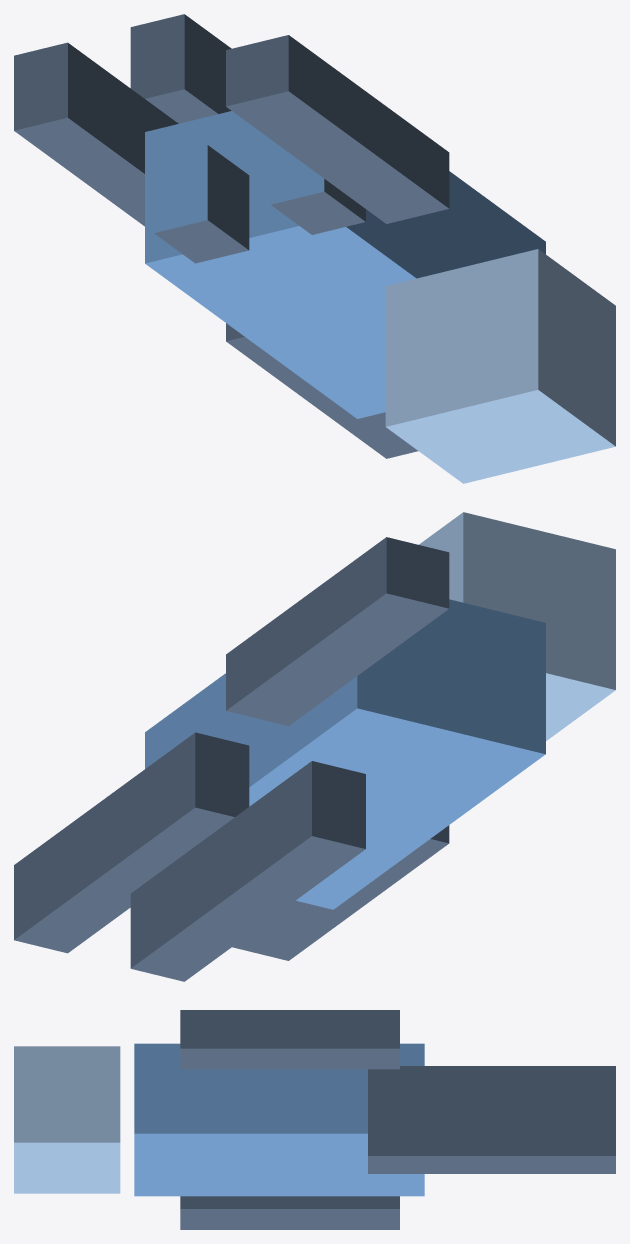
Rendered from humanoid_robot.gltf.
The picture shows the model from 3 angles, top to bottom: view 1: azimuth 30°, elevation 25°; view 2: azimuth 150°, elevation 25°; view 3: azimuth 270°, elevation 25°; orthographic projection. The views are drawn at different scales.
Visible parts, largest first — view 1: torso, head, right_arm, left_leg, right_leg, left_arm; view 2: torso, left_leg, right_leg, right_arm, head, left_arm; view 3: torso, right_leg, head, right_arm, left_leg, left_arm.
Boxes of the visible parts, bbox=[...] form: torso: bbox=[145, 111, 545, 418]; head: bbox=[385, 249, 615, 483]; right_arm: bbox=[226, 35, 449, 223]; left_leg: bbox=[14, 42, 249, 263]; right_leg: bbox=[130, 14, 365, 234]; left_arm: bbox=[226, 323, 418, 458]; torso: bbox=[145, 599, 545, 909]; left_leg: bbox=[130, 761, 365, 981]; right_leg: bbox=[14, 732, 249, 953]; right_arm: bbox=[226, 537, 449, 726]; head: bbox=[419, 512, 615, 740]; left_arm: bbox=[232, 825, 449, 960]; torso: bbox=[134, 1043, 424, 1196]; right_leg: bbox=[368, 1104, 615, 1173]; head: bbox=[14, 1046, 120, 1193]; right_arm: bbox=[180, 1010, 399, 1069]; left_leg: bbox=[368, 1066, 615, 1104]; left_arm: bbox=[180, 1196, 399, 1229].
Bounding box in the file's own units: 0.42 × 0.62 × 1.7.
